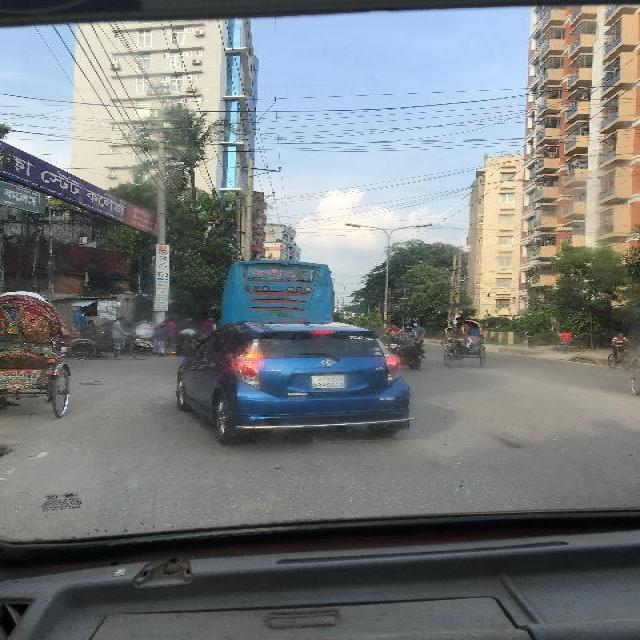bicycle: (604, 332, 633, 371)
bus: (221, 260, 334, 320)
motorbike: (387, 321, 429, 351)
rickshaw: (1, 289, 74, 417), (66, 313, 153, 362), (444, 313, 487, 372)
suv: (173, 322, 384, 444)
